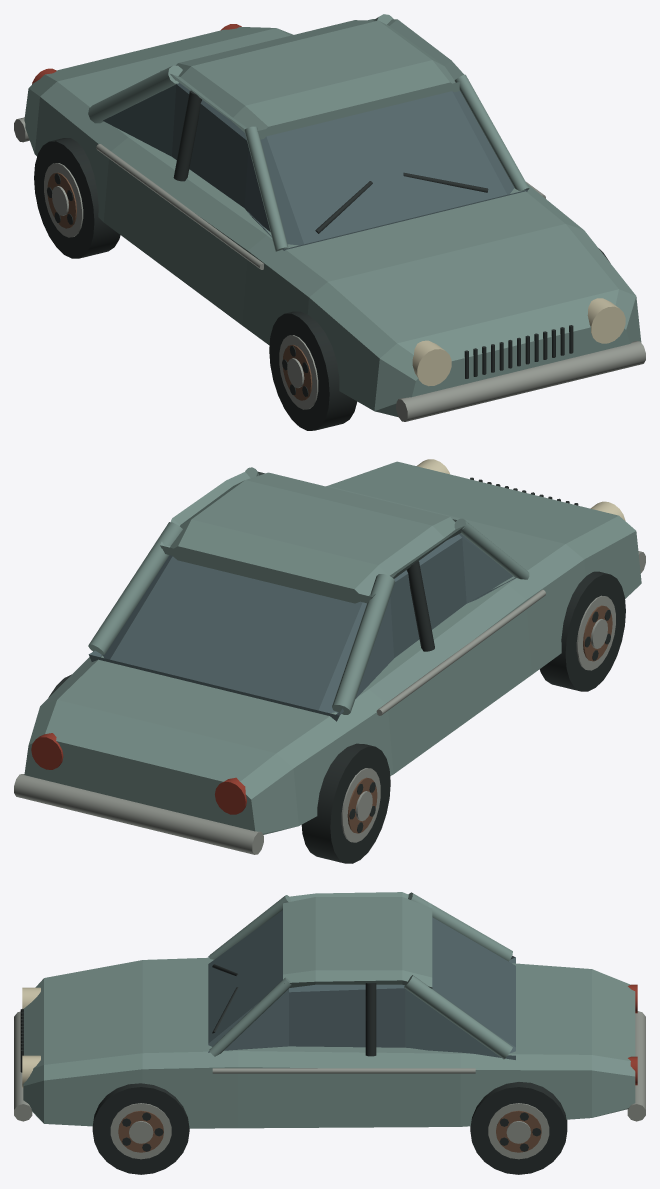
File: hollow-coupe.glb
3 views of the same model, one above another, from view 1: azimuth 30°, elevation 25°; view 2: azimuth 150°, elevation 25°; view 3: azimuth 270°, elevation 25° (orthographic). The views are drawn at different scales.
Visible parts, largest first — view 1: Hollow Creek - missing coupe; view 2: Hollow Creek - missing coupe; view 3: Hollow Creek - missing coupe.
Part boxes in pixels (x1,y1,x2,y2): Hollow Creek - missing coupe: [14, 14, 645, 430]; Hollow Creek - missing coupe: [14, 459, 645, 863]; Hollow Creek - missing coupe: [14, 892, 645, 1174].
Size of the model in its own units: 1.9 by 1.35 by 4.23.
